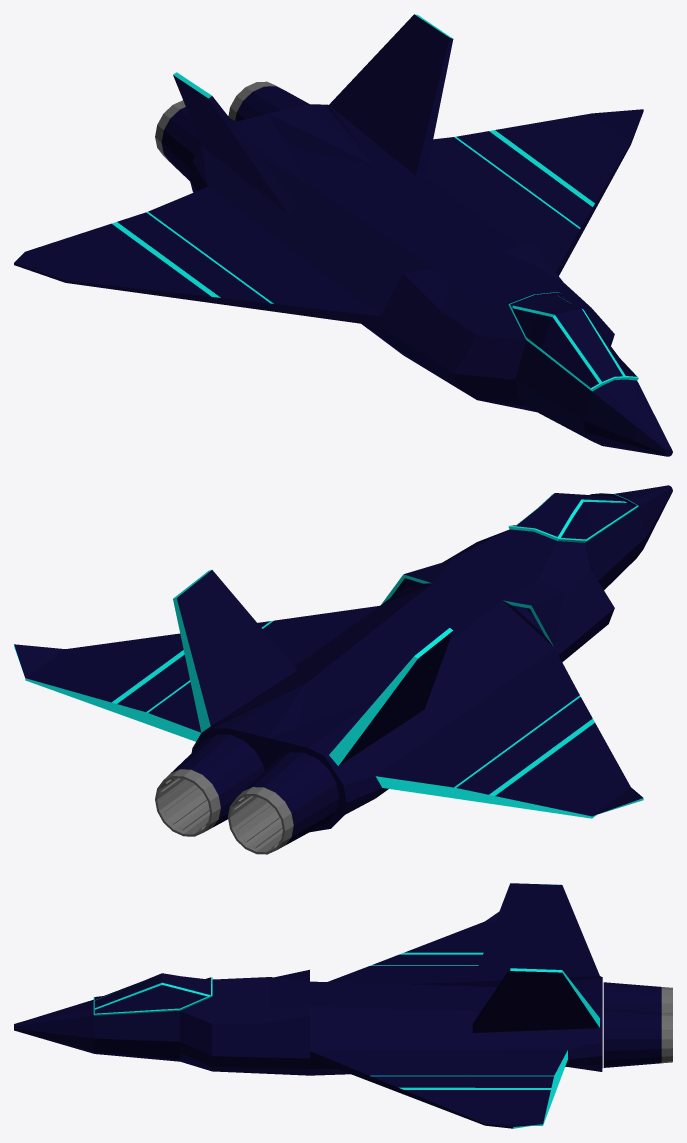
The model's file is Fighter6.fbx.
3 renders of one model, top to bottom at view 1: azimuth 30°, elevation 25°; view 2: azimuth 150°, elevation 25°; view 3: azimuth 270°, elevation 25°, orthographic. The views are drawn at different scales.
Visible parts, largest first — view 1: Fighter6; view 2: Fighter6; view 3: Fighter6.
Part boxes in pixels (x1,y1,x2,y2): Fighter6: (14, 14, 672, 456); Fighter6: (14, 485, 672, 854); Fighter6: (14, 883, 672, 1128).
Size of the model in its own units: 2.43 by 0.677 by 3.
1 material, 1 textured.
